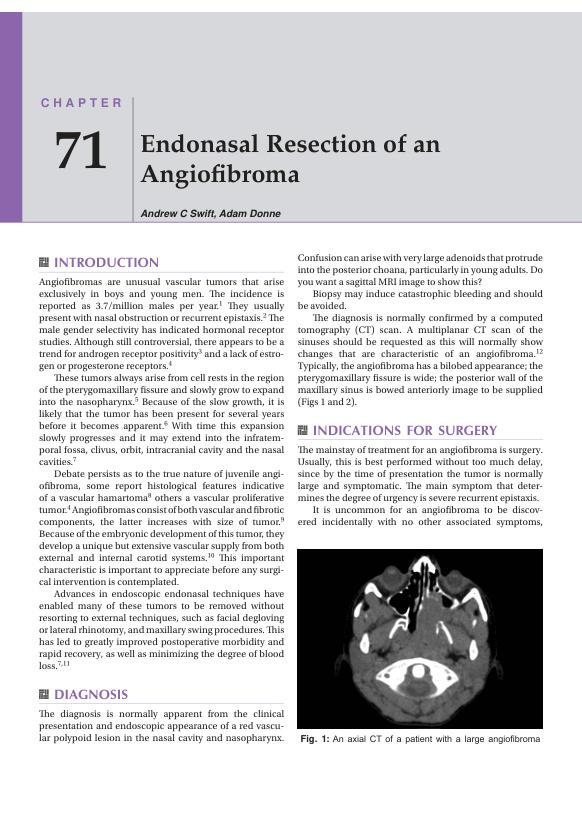caption: (298, 732, 542, 746)
chapter-heading: (137, 129, 443, 189)
image: (296, 547, 543, 730)
section-heading: (311, 423, 500, 437), (53, 256, 160, 269), (53, 688, 130, 701)
text: (38, 275, 286, 671), (296, 251, 545, 409), (296, 443, 544, 528), (37, 707, 286, 746)
